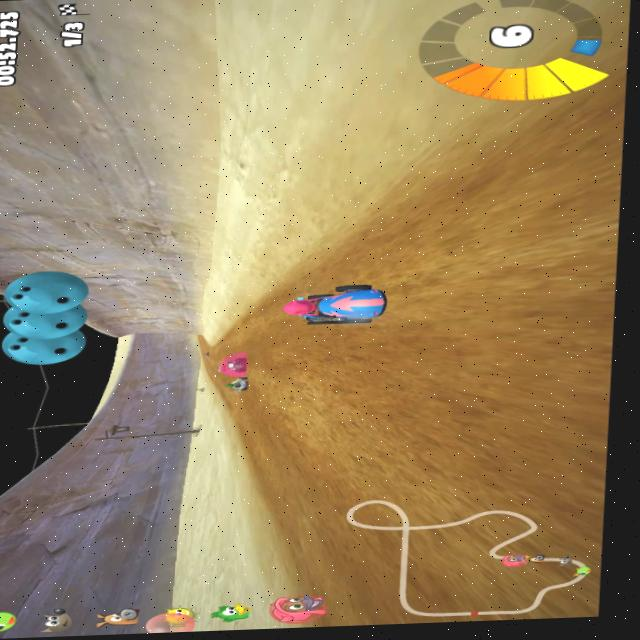enemy_kart: (221, 348, 253, 394)
player_kart: (282, 283, 388, 328)
track: (385, 104, 619, 620), (267, 325, 404, 518), (300, 510, 392, 628), (311, 210, 410, 282), (239, 301, 281, 349), (268, 516, 302, 567), (233, 391, 269, 429), (241, 428, 275, 459), (201, 343, 222, 376), (244, 456, 271, 480), (196, 333, 209, 358), (225, 328, 239, 351), (224, 391, 237, 407)
